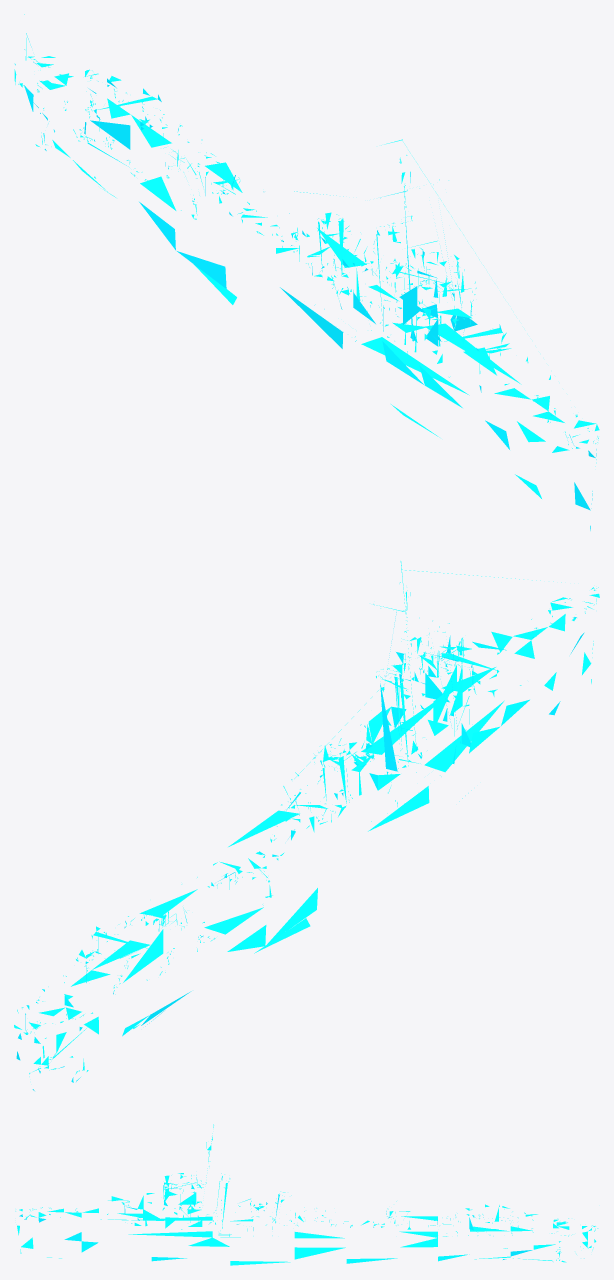
The model's file is Vampire.glb.
3 renders of one model, top to bottom at view 1: azimuth 30°, elevation 25°; view 2: azimuth 150°, elevation 25°; view 3: azimuth 270°, elevation 25°, orthographic. The views are drawn at different scales.
Size of the model in its own units: 0.5958 by 1.62 by 6.35.
